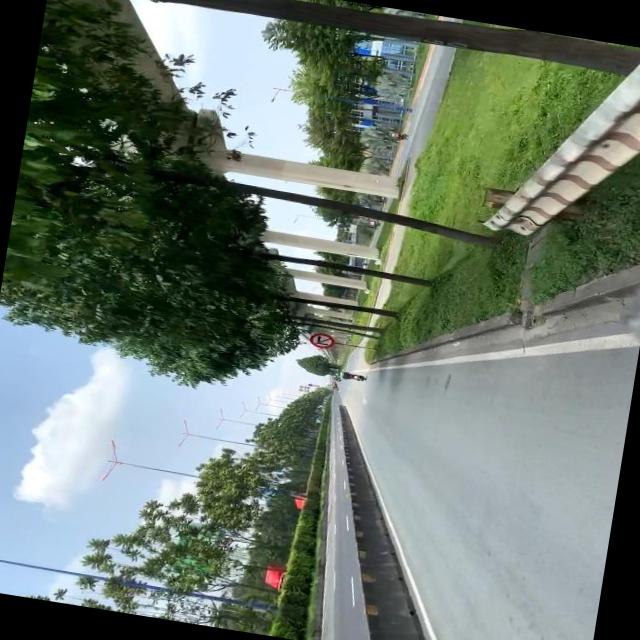P-123b: (306, 332, 338, 349)
